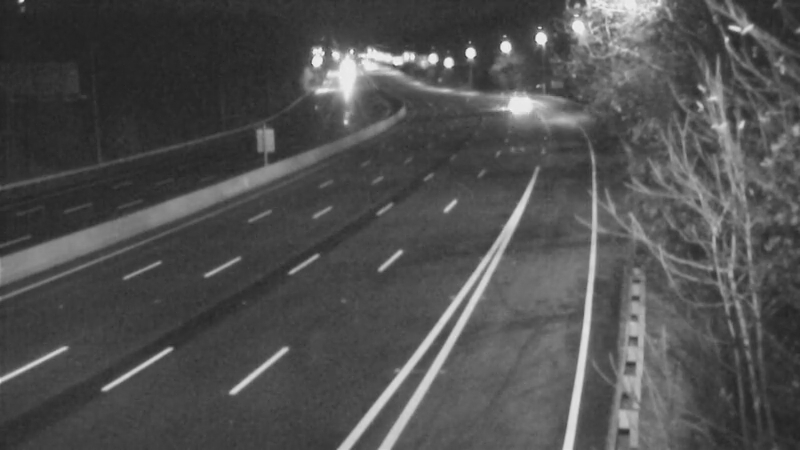vehicle: (499, 83, 549, 133)
